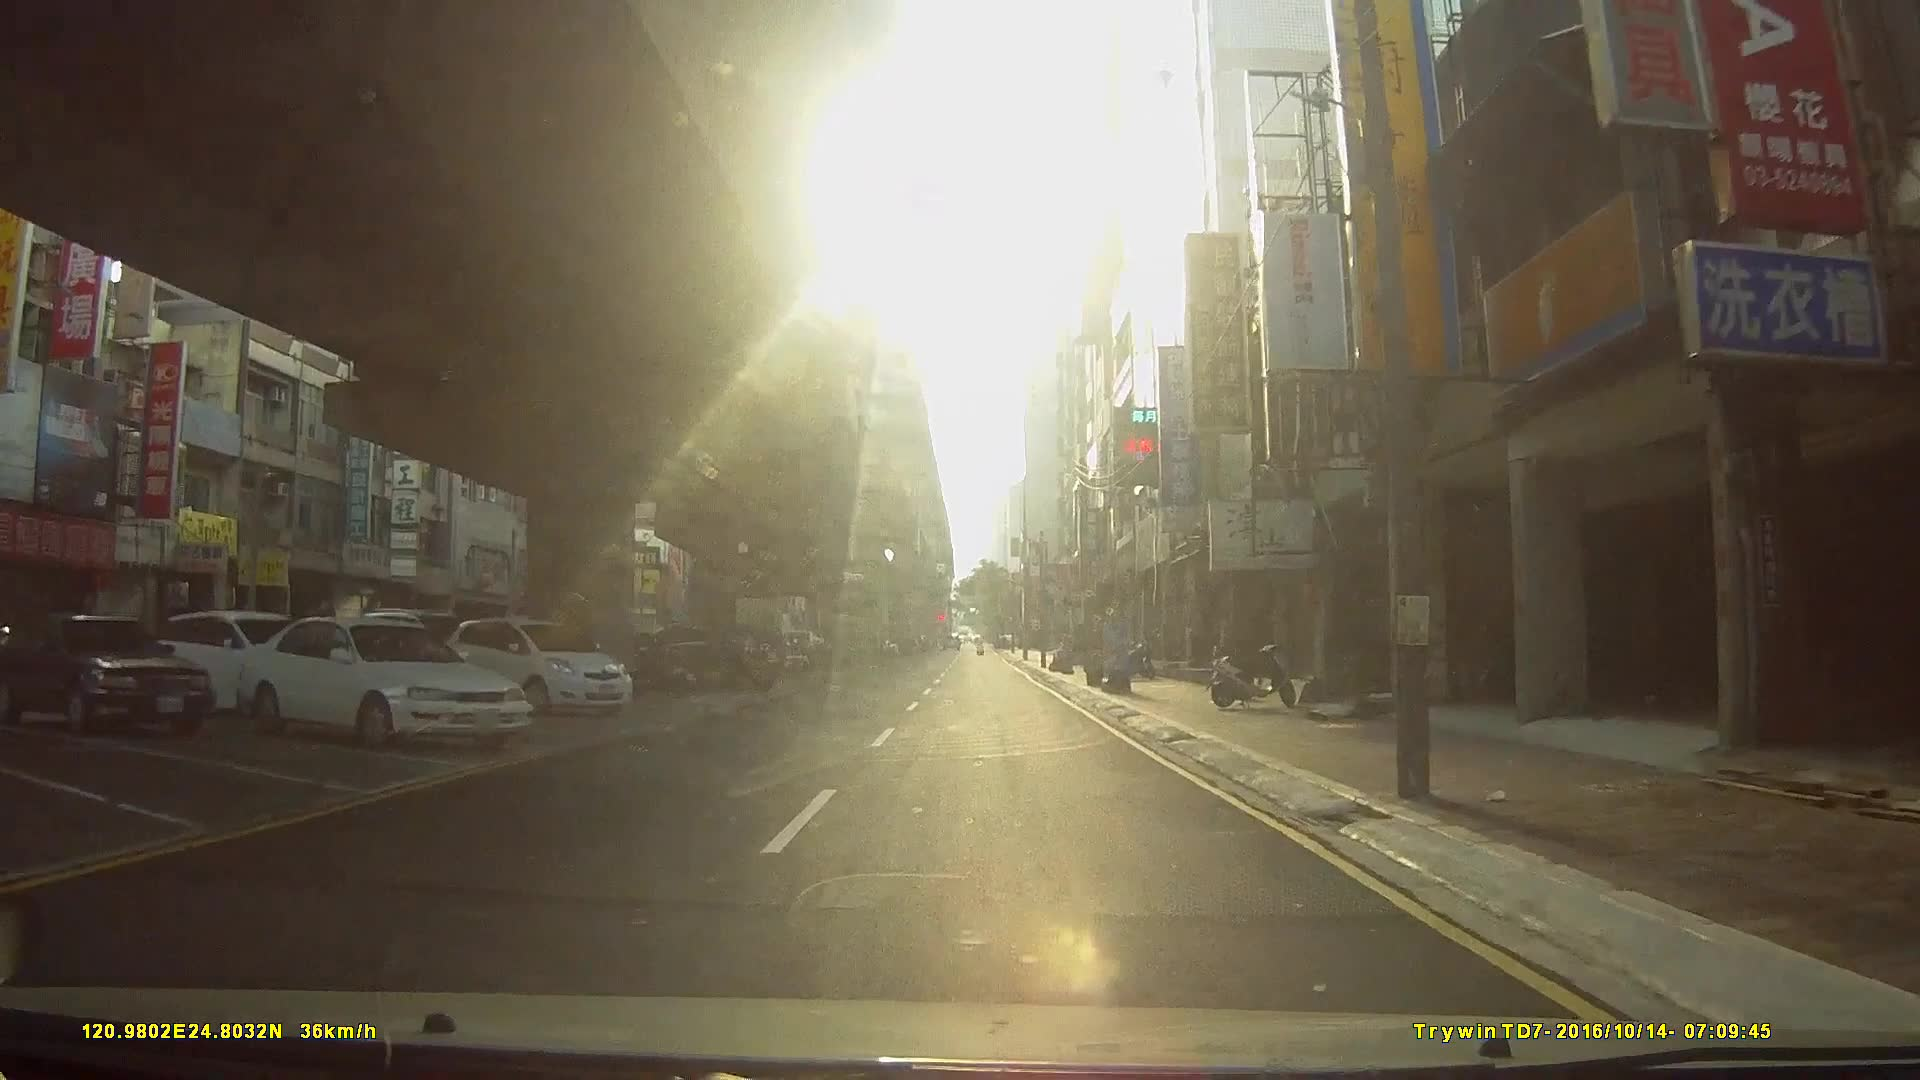vehicle: (233, 616, 527, 752), (0, 609, 215, 738), (442, 615, 633, 715), (157, 611, 314, 712)
